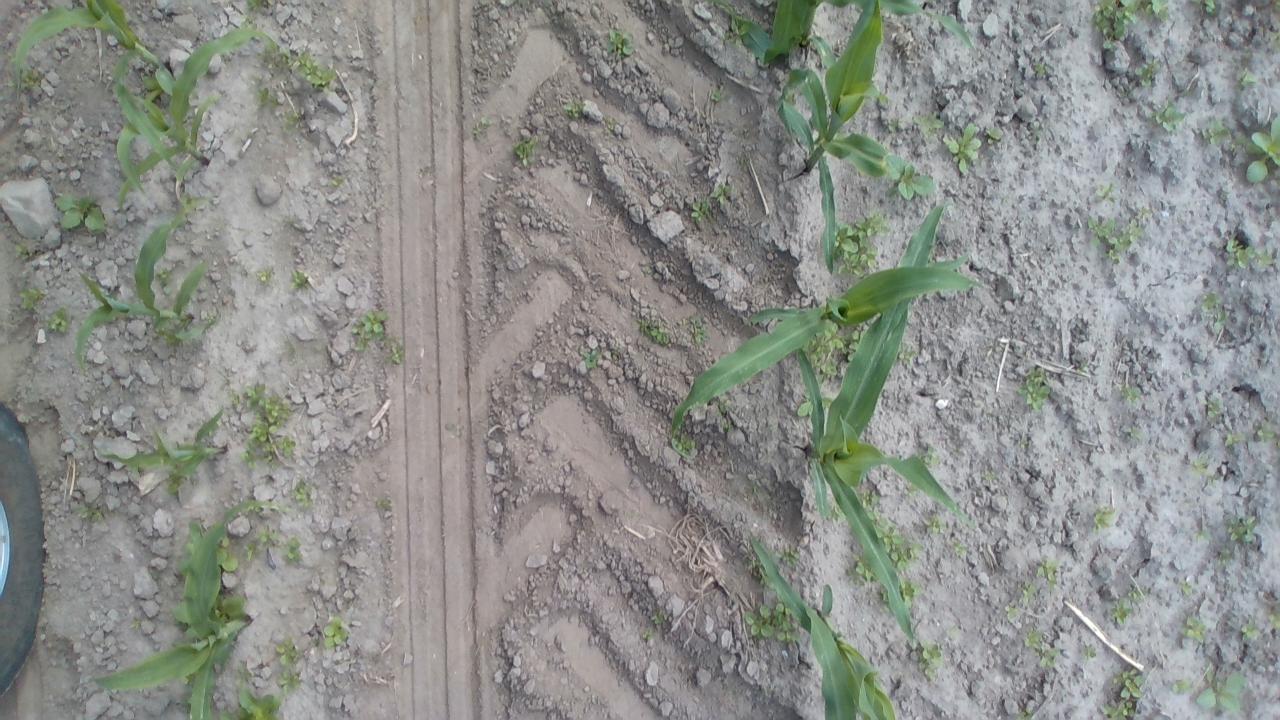Maize: (793, 200, 966, 654), (670, 264, 985, 459), (90, 500, 276, 720), (776, 1, 894, 276), (114, 27, 281, 207), (750, 530, 894, 720), (72, 197, 220, 378), (708, 0, 979, 67), (89, 404, 227, 500), (15, 0, 162, 86)
Weeds: (230, 384, 296, 470), (1089, 0, 1171, 50), (1087, 206, 1152, 264), (833, 212, 891, 274), (1238, 117, 1280, 185), (882, 152, 938, 200), (1196, 664, 1248, 712), (1100, 666, 1144, 720), (943, 122, 982, 177), (52, 192, 104, 232), (1224, 233, 1274, 272), (217, 691, 283, 720), (292, 49, 335, 93), (745, 604, 794, 642), (351, 308, 388, 357), (711, 0, 749, 44), (810, 332, 843, 380), (1016, 367, 1050, 413), (1152, 98, 1188, 135), (637, 317, 671, 348), (1224, 514, 1258, 545), (848, 552, 878, 586), (912, 109, 942, 142), (1132, 55, 1162, 88), (605, 28, 633, 63), (918, 638, 942, 678), (282, 338, 313, 366), (290, 477, 314, 512), (898, 571, 921, 607), (890, 542, 920, 569), (1202, 115, 1229, 145), (875, 525, 904, 552), (214, 596, 244, 622), (256, 49, 290, 71), (321, 618, 347, 646), (20, 288, 50, 312), (275, 638, 302, 664), (1237, 616, 1262, 644), (1180, 614, 1206, 640), (685, 316, 709, 344), (512, 134, 536, 162), (1092, 504, 1116, 532), (746, 557, 769, 586), (561, 99, 588, 123), (1034, 555, 1059, 580), (217, 546, 240, 573), (279, 108, 304, 132), (280, 536, 304, 561), (1112, 596, 1132, 626), (920, 514, 949, 534), (776, 546, 800, 570), (1016, 580, 1040, 604), (1020, 622, 1044, 646), (258, 87, 280, 113), (75, 505, 105, 524), (48, 306, 68, 334), (280, 212, 302, 237), (1092, 182, 1117, 204), (1234, 66, 1256, 90), (1036, 646, 1060, 668), (1126, 584, 1153, 603), (260, 524, 282, 547), (156, 267, 174, 295), (290, 266, 310, 291), (1254, 416, 1274, 441), (20, 66, 42, 88), (580, 347, 602, 369), (1192, 454, 1212, 478), (386, 338, 404, 364), (278, 668, 301, 688), (1198, 289, 1218, 312), (244, 535, 261, 562), (471, 117, 491, 139), (711, 182, 730, 204), (1210, 308, 1226, 334), (924, 443, 940, 468), (166, 476, 187, 495), (235, 662, 253, 684), (1206, 394, 1222, 418), (157, 326, 176, 346), (710, 85, 730, 104), (984, 124, 1003, 144), (1080, 642, 1100, 661), (731, 120, 750, 140), (846, 331, 859, 359), (860, 489, 879, 508), (948, 538, 968, 556), (676, 434, 694, 454), (692, 200, 707, 224), (1224, 432, 1246, 448), (1004, 599, 1020, 621), (600, 115, 618, 134), (256, 266, 274, 284), (798, 394, 810, 420), (1268, 602, 1280, 628), (870, 510, 890, 525), (1178, 576, 1193, 596), (1172, 678, 1192, 693), (1120, 386, 1138, 402), (1214, 548, 1232, 564), (375, 495, 392, 511), (446, 423, 464, 438), (1014, 706, 1036, 718), (14, 245, 31, 260), (828, 507, 843, 524), (898, 345, 912, 363), (1028, 123, 1042, 141), (736, 152, 750, 170), (901, 483, 916, 498), (785, 89, 800, 104), (242, 16, 262, 27), (749, 480, 761, 498), (1202, 0, 1217, 14), (650, 610, 666, 623), (1074, 362, 1090, 375), (884, 118, 900, 130), (246, 0, 263, 11), (945, 624, 960, 636), (332, 172, 343, 188), (205, 314, 218, 327), (1034, 61, 1046, 75), (1198, 530, 1210, 544), (980, 470, 995, 481), (1270, 33, 1280, 49), (879, 590, 890, 604), (641, 630, 656, 640), (128, 618, 142, 628), (718, 400, 728, 414), (723, 420, 734, 432), (822, 397, 834, 408), (418, 166, 429, 177), (4, 78, 14, 90), (1272, 0, 1280, 14), (1130, 426, 1140, 437), (1046, 580, 1057, 590), (1018, 438, 1028, 448), (1002, 194, 1010, 205), (1244, 52, 1251, 63), (611, 348, 620, 356), (1191, 0, 1201, 6)
